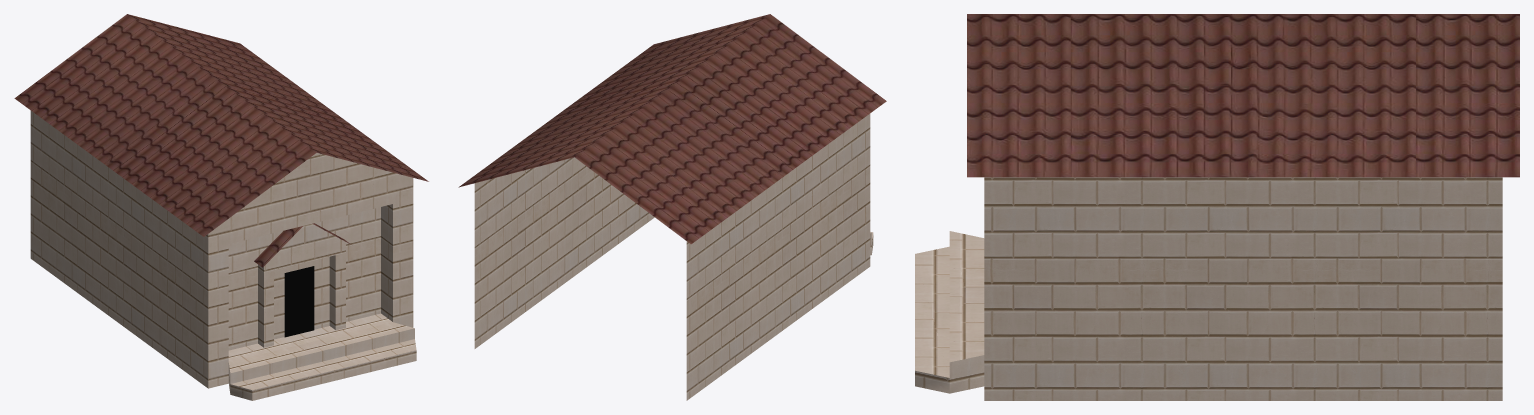
File: temple.FBX
The picture shows the model from 3 angles, left to right: view 1: azimuth 30°, elevation 25°; view 2: azimuth 150°, elevation 25°; view 3: azimuth 270°, elevation 25°; orthographic projection. The views are drawn at different scales.
Parts seen in each view (by area): view 1: temple; view 2: temple; view 3: temple.
Part boxes in pixels (x1,y1,x2,y2): temple: (14, 14, 428, 400); temple: (458, 14, 886, 400); temple: (915, 14, 1519, 400).
Bounding box in the file's own units: 220 × 201 × 350.
